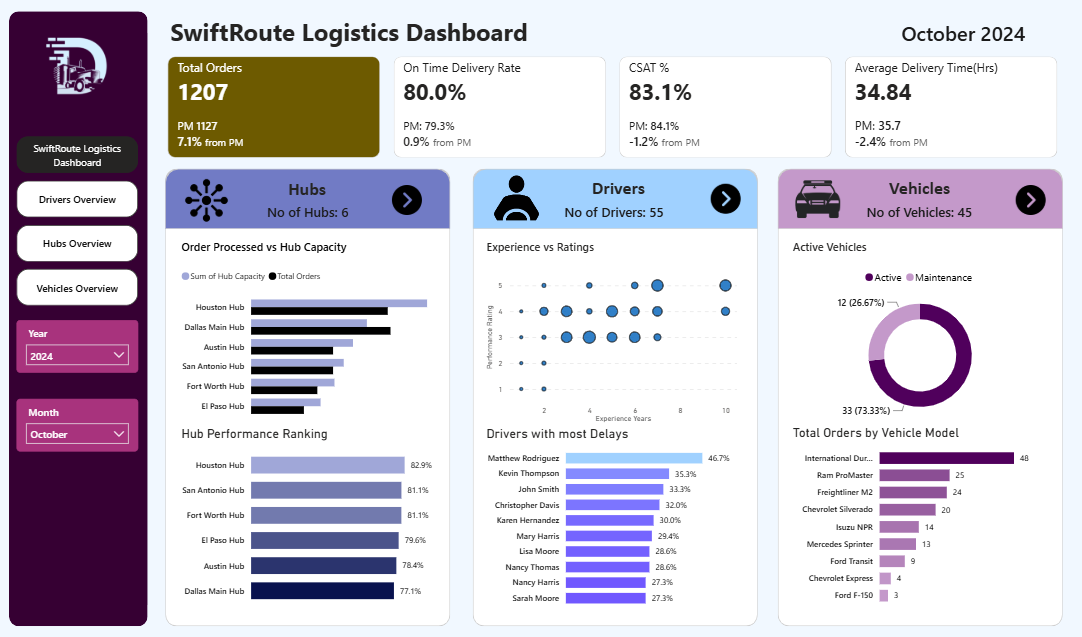

Layout of this report page (visuals, bound fields, positions):
{"tool":"powerbi","page":{"name":"SwiftRoute Logistics Dashboard","canvas":[1450,850],"ordinal":0},"visuals":[{"type":"shape","box":[13.3,15,185,820],"z":0},{"type":"textbox","box":[222.5,15,503.3,56.7],"z":1000},{"type":"cardVisual","fields":{"Data":["Orders.Total Orders","Orders.On Time Delivery Rate","Orders.CSAT %","Orders.Average Delivery Time(Hrs)"]},"box":[220,65,1197.5,150],"z":2000},{"type":"slicer","fields":{"Values":["Date Table.Year"]},"box":[23.7,426,162,70],"z":3000},{"type":"shape","box":[221.7,225,380,610],"z":4000},{"type":"slicer","fields":{"Values":["Date Table.Month"]},"box":[23.7,531.7,162,70],"z":5000},{"type":"shape","box":[221.7,225,380,80],"z":6000},{"type":"cardVisual","fields":{"Data":["Hubs.No of Hubs"]},"box":[327.1,257.1,170,48.6],"z":7000},{"type":"textbox","box":[305.7,237.1,211.7,36.7],"z":8000},{"type":"clusteredBarChart","title":"Order Processed vs Hub Capacity","fields":{"Y":["Sum(Hubs.Hub Capacity)","Orders.Total Orders"],"Category":["Hubs.HubName"]},"box":[238.6,318.6,350,250],"z":9000},{"type":"barChart","title":"Hub Performance Ranking","fields":{"Category":["Hubs.HubName"],"Y":["Orders.On Time Delivery Rate"]},"box":[238.6,568.6,350,250],"z":10000},{"type":"shape","box":[631.4,224.3,380,610],"z":11000},{"type":"shape","box":[1038.6,224.3,380,610],"z":12000},{"type":"shape","box":[631.4,224.3,380,80],"z":13000},{"type":"shape","box":[1038.6,224.3,380,80],"z":14000},{"type":"cardVisual","fields":{"Data":["Drivers.No of Drivers"]},"box":[734.3,257.1,170,48.6],"z":15000},{"type":"textbox","box":[720.3,235.7,211.7,36.7],"z":16000},{"type":"cardVisual","fields":{"Data":["Vehicles.No of Vehicles"]},"box":[1131.7,256.7,191.7,48.3],"z":17000},{"type":"textbox","box":[1121.7,235,211.7,36.7],"z":18000},{"type":"scatterChart","title":"Experience vs Ratings","fields":{"X":["Drivers.Experience Years"],"Y":["Drivers.Performance Rating"],"Size":["Sum(Drivers.Experience Years)1"]},"box":[644.3,318.6,350,250],"z":19000},{"type":"barChart","title":"Drivers with most Delays","fields":{"Y":["Orders.Delayed Delivery Rate"],"Category":["Orders.Driver Name"]},"box":[644.3,568.6,350,250],"z":20000},{"type":"donutChart","title":"Active Vehicles","fields":{"Category":["Vehicles.Vehicle Status"],"Y":["CountNonNull(Vehicles.Vehicle ID)"]},"box":[1052.9,318.6,350,250],"z":21000},{"type":"barChart","fields":{"Category":["Vehicles.Vehicle Model"],"Y":["Orders.Total Orders"]},"box":[1052.9,567.1,350,250],"z":22000},{"type":"image","box":[55.7,28.6,98.6,125.7],"z":23000},{"type":"cardVisual","fields":{"Data":["Orders.Year Month Title"]},"box":[1167.5,17.5,235.7,48.6],"z":24000},{"type":"image","box":[942.9,245.7,51.4,40],"z":25000},{"type":"image","box":[518,246,51.4,40],"z":26000},{"type":"image","box":[1350,246,51.4,40],"z":27000},{"type":"pageNavigator","box":[24,182,162,226],"z":28000},{"type":"image","box":[246,230,60,74],"z":29000},{"type":"image","box":[660,226,60,74],"z":30000},{"type":"image","box":[1062,228,60,74],"z":31000}]}

Visuals, with their boxes on the page's 1450x850 design canvas (x1, y1, x2, y2). These are canvas units, not pixel positions in the 1082x637 screenshot, which may show the page scaled, cropped or inside an application window:
shape: 13/15/198/835
textbox: 222/15/726/72
cardVisual - Orders.Total Orders x Orders.On Time Delivery Rate: 220/65/1418/215
slicer - Date Table.Year: 24/426/186/496
shape: 222/225/602/835
slicer - Date Table.Month: 24/532/186/602
shape: 222/225/602/305
cardVisual - Hubs.No of Hubs: 327/257/497/306
textbox: 306/237/517/274
"Order Processed vs Hub Capacity" clusteredBarChart: 239/319/589/569
"Hub Performance Ranking" barChart: 239/569/589/819
shape: 631/224/1011/834
shape: 1039/224/1419/834
shape: 631/224/1011/304
shape: 1039/224/1419/304
cardVisual - Drivers.No of Drivers: 734/257/904/306
textbox: 720/236/932/272
cardVisual - Vehicles.No of Vehicles: 1132/257/1323/305
textbox: 1122/235/1333/272
"Experience vs Ratings" scatterChart: 644/319/994/569
"Drivers with most Delays" barChart: 644/569/994/819
"Active Vehicles" donutChart: 1053/319/1403/569
barChart - Vehicles.Vehicle Model x Orders.Total Orders: 1053/567/1403/817
image: 56/29/154/154
cardVisual - Orders.Year Month Title: 1168/18/1403/66
image: 943/246/994/286
image: 518/246/569/286
image: 1350/246/1401/286
pageNavigator: 24/182/186/408
image: 246/230/306/304
image: 660/226/720/300
image: 1062/228/1122/302
